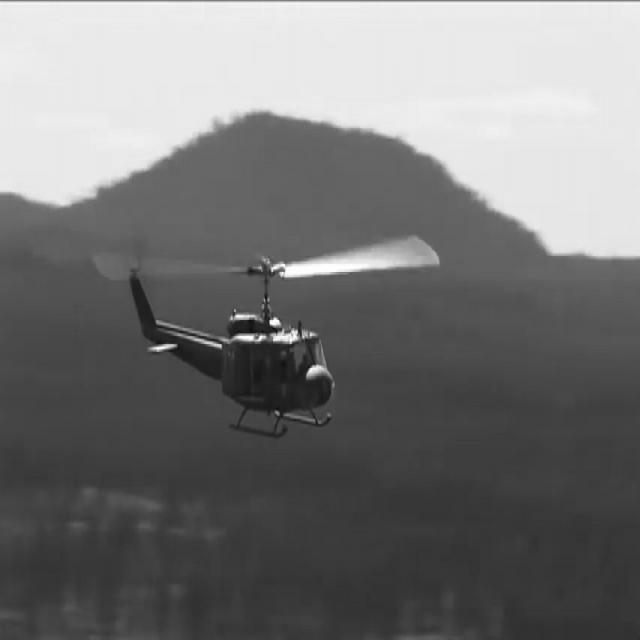helikopter: (121, 244, 392, 452)
